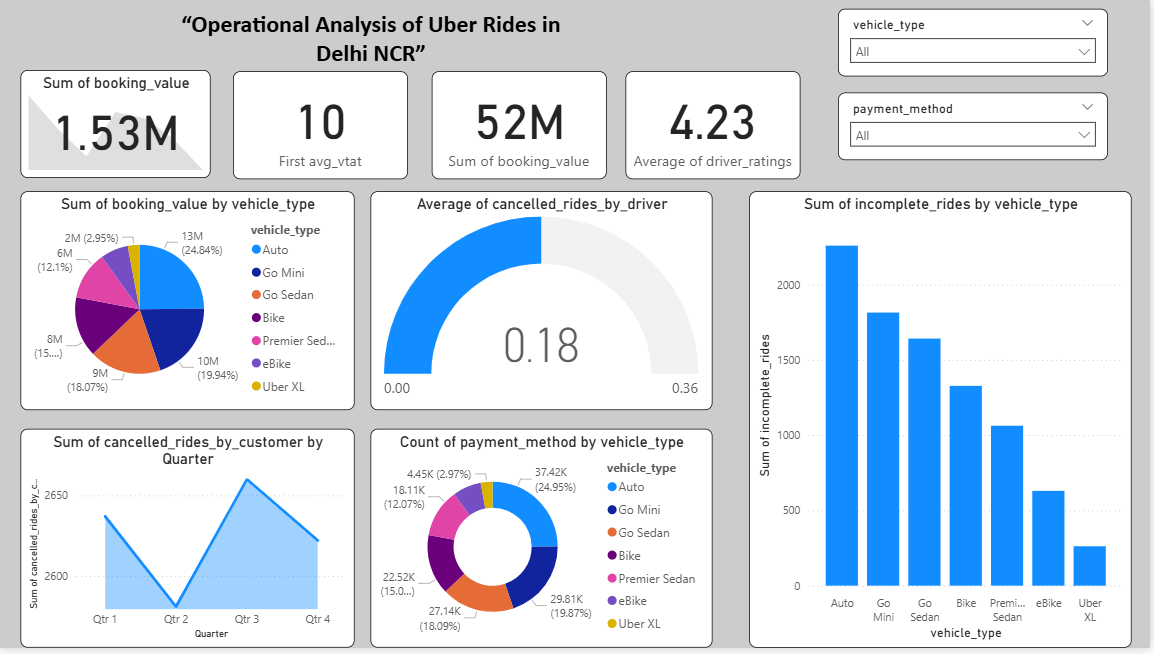

Layout of this report page (visuals, bound fields, positions):
{"tool":"powerbi","page":{"name":"Page 1","canvas":[1280,720],"ordinal":0},"visuals":[{"type":"textbox","title":"“Operational Analysis of Uber Rides in Delhi NCR”","box":[169.6,10.1,489.9,66.7],"z":0},{"type":"card","fields":{"Values":["Min(public uber_data_analysis.avg_vtat)"]},"box":[260.9,79.7,194.2,120.3],"z":1000},{"type":"card","fields":{"Values":["Sum(public uber_data_analysis.booking_value)"]},"box":[482.6,79.7,194.2,120.3],"z":2000},{"type":"kpi","title":"Sum of booking_value ","fields":{"TrendLine":["public uber_data_analysis.vehicle_type"],"Indicator":["Sum(public uber_data_analysis.booking_value)"]},"box":[24.6,78.3,211.6,120.3],"z":3000},{"type":"slicer","fields":{"Values":["public uber_data_analysis.vehicle_type"]},"box":[933.3,10.1,300,75.4],"z":4000},{"type":"pieChart","fields":{"Y":["Sum(public uber_data_analysis.booking_value)"],"Category":["public uber_data_analysis.vehicle_type"]},"box":[24.6,213,371,243.5],"z":5000},{"type":"card","fields":{"Values":["Avg(public uber_data_analysis.driver_ratings)"]},"box":[697.1,79.7,194.2,120.3],"z":6000},{"type":"areaChart","fields":{"Category":["public uber_data_analysis.date.Variation.Date Hierarchy.Quarter"],"Y":["Sum(public uber_data_analysis.cancelled_rides_by_customer)"]},"box":[24.6,476.8,371,243.5],"z":7000},{"type":"gauge","fields":{"Y":["Avg(public uber_data_analysis.cancelled_rides_by_driver)"]},"box":[414.5,213,379.7,243.5],"z":8000},{"type":"lineClusteredColumnComboChart","fields":{"Y":["Sum(public uber_data_analysis.incomplete_rides)"],"Category":["public uber_data_analysis.vehicle_type"]},"box":[834.8,213,424.6,507.2],"z":8001},{"type":"donutChart","fields":{"Category":["public uber_data_analysis.vehicle_type"],"Y":["CountNonNull(public uber_data_analysis.payment_method)"]},"box":[414.5,476.8,379.7,243.5],"z":8002},{"type":"slicer","fields":{"Values":["public uber_data_analysis.payment_method"]},"box":[933.3,102.9,300,75.4],"z":8003}]}

Visuals, with their boxes in screenshot pixels (x1, y1, x2, y2), scaled from the page's 1280x720 canvas onto the 1154x654 screenshot:
"“Operational Analysis of Uber Rides in Delhi NCR”" textbox: select_region(153, 9, 595, 70)
card - Min(public uber_data_analysis.avg_vtat): select_region(235, 72, 410, 182)
card - Sum(public uber_data_analysis.booking_value): select_region(435, 72, 610, 182)
"Sum of booking_value " kpi: select_region(22, 71, 213, 180)
slicer - public uber_data_analysis.vehicle_type: select_region(841, 9, 1112, 78)
pieChart - Sum(public uber_data_analysis.booking_value) x public uber_data_analysis.vehicle_type: select_region(22, 193, 357, 415)
card - Avg(public uber_data_analysis.driver_ratings): select_region(628, 72, 804, 182)
areaChart - public uber_data_analysis.date.Variation.Date Hierarchy.Quarter x Sum(public uber_data_analysis.cancelled_rides_by_customer): select_region(22, 433, 357, 653)
gauge - Avg(public uber_data_analysis.cancelled_rides_by_driver): select_region(374, 193, 716, 415)
lineClusteredColumnComboChart - Sum(public uber_data_analysis.incomplete_rides) x public uber_data_analysis.vehicle_type: select_region(753, 193, 1135, 653)
donutChart - public uber_data_analysis.vehicle_type x CountNonNull(public uber_data_analysis.payment_method): select_region(374, 433, 716, 653)
slicer - public uber_data_analysis.payment_method: select_region(841, 93, 1112, 162)
